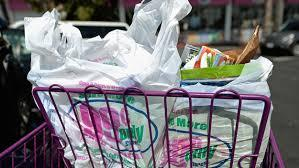Plastic bag: (12, 10, 288, 161)
